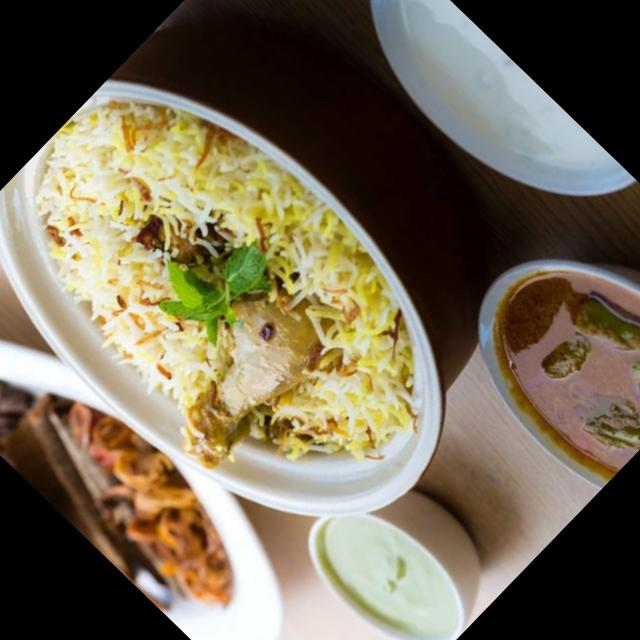Biryani: (0, 36, 483, 558)
